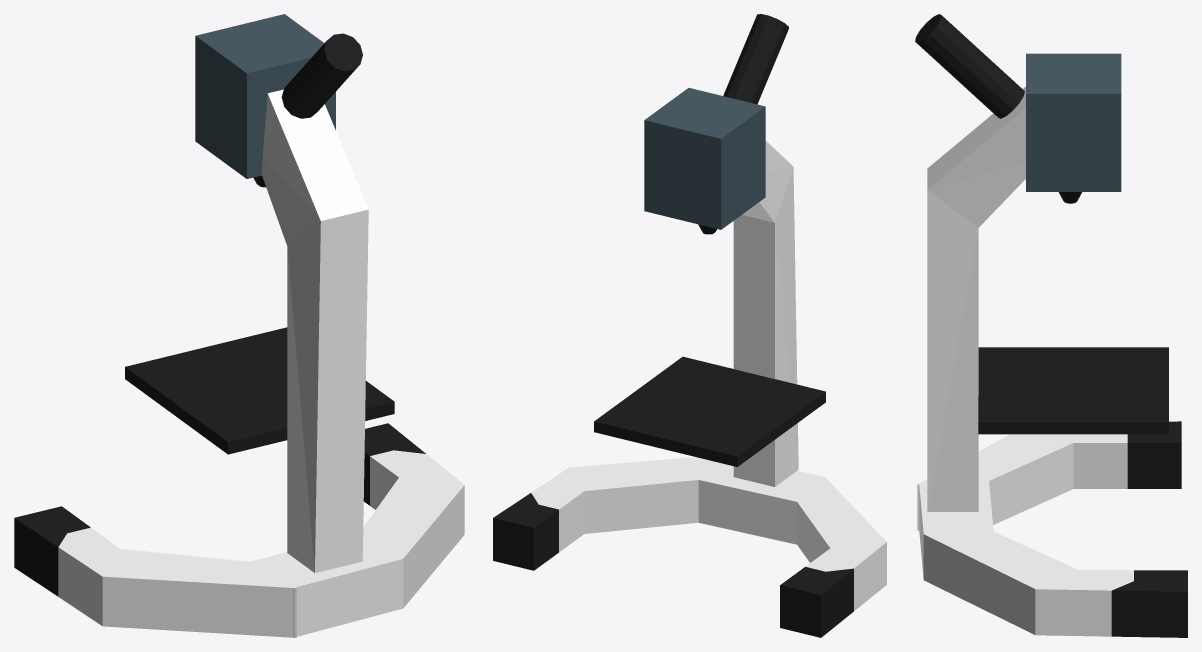
3 views of the same model, side by side, from view 1: azimuth 30°, elevation 25°; view 2: azimuth 150°, elevation 25°; view 3: azimuth 270°, elevation 25° (orthographic). The views are drawn at different scales.
Parts seen in each view (by area): view 1: group_245451215; view 2: group_245451215; view 3: group_245451215.
Boxes of the visible parts, x1,y1,x2,y2 form: group_245451215: (14, 14, 464, 637); group_245451215: (493, 14, 886, 637); group_245451215: (915, 14, 1187, 637).
Size of the model in its own units: 63.5 by 93.46 by 42.96.
